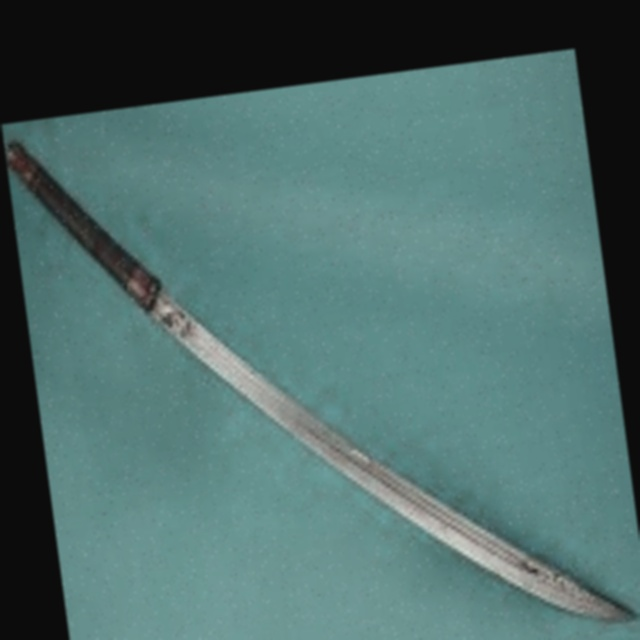Sharp-Object: (2, 50, 640, 640)
